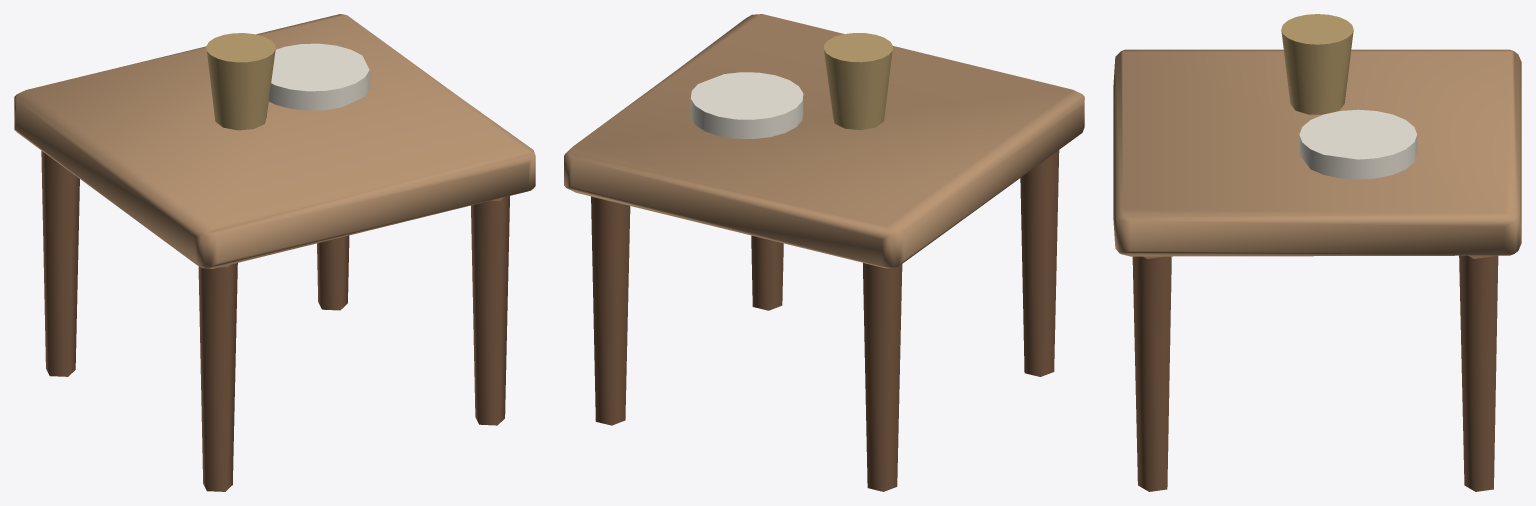
File: table-4-5.lod.glb
3 views of the same model, side by side, from view 1: azimuth 30°, elevation 25°; view 2: azimuth 150°, elevation 25°; view 3: azimuth 270°, elevation 25° (orthographic). The views are drawn at different scales.
Parts seen in each view (by area): view 1: upholstery, part (×3); view 2: upholstery, part (×3); view 3: upholstery, part (×3).
Boxes of the visible parts, x1,y1,x2,y2 form: upholstery: [14, 14, 535, 268]; part (×3): [41, 33, 509, 491]; upholstery: [564, 14, 1084, 268]; part (×3): [591, 33, 1059, 491]; upholstery: [1113, 49, 1521, 256]; part (×3): [1132, 14, 1498, 491].
Size of the model in its own units: 1 by 1 by 1.
